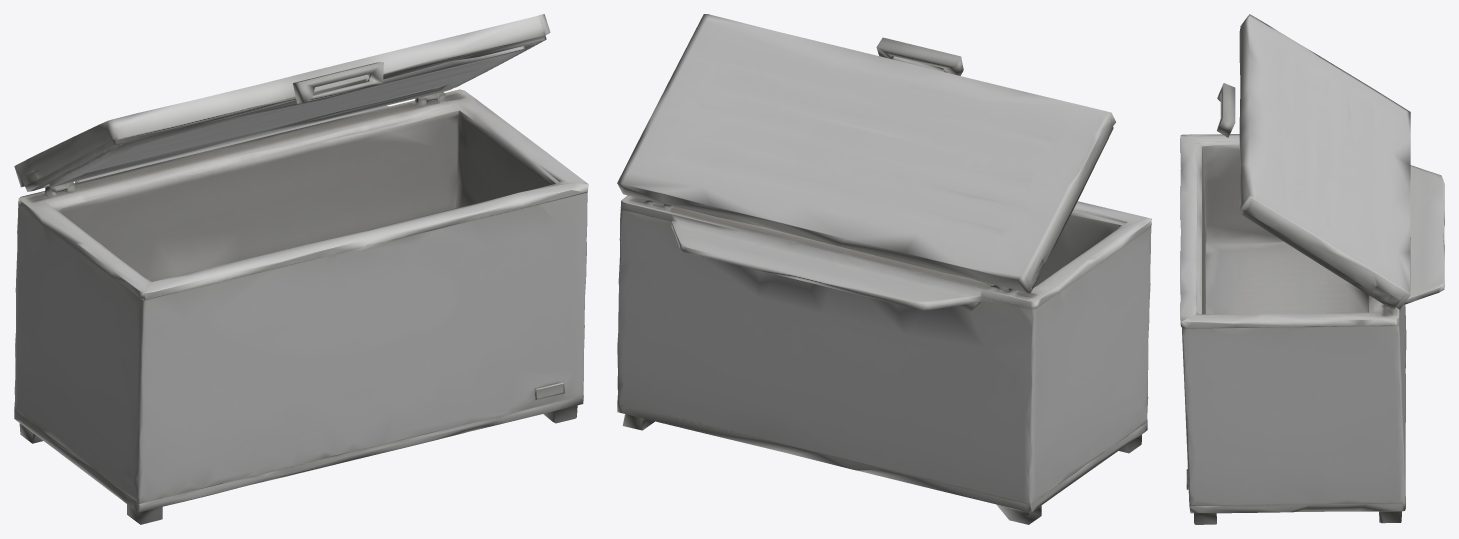
Rendered from SYS_FREEZER_v001_RAW.glb.
The picture shows the model from 3 angles, left to right: view 1: azimuth 30°, elevation 25°; view 2: azimuth 150°, elevation 25°; view 3: azimuth 270°, elevation 25°; orthographic projection. The views are drawn at different scales.
Parts seen in each view (by area): view 1: tripo_node_1f01050c-e645-486b-ae21-7014345bda6a; view 2: tripo_node_1f01050c-e645-486b-ae21-7014345bda6a; view 3: tripo_node_1f01050c-e645-486b-ae21-7014345bda6a.
Boxes of the visible parts, box(x1,y1,x2,y2) form: tripo_node_1f01050c-e645-486b-ae21-7014345bda6a: box(14, 14, 588, 524); tripo_node_1f01050c-e645-486b-ae21-7014345bda6a: box(617, 14, 1151, 524); tripo_node_1f01050c-e645-486b-ae21-7014345bda6a: box(1180, 14, 1444, 524).
Bounding box in the file's own units: 0.9792 × 0.8114 × 0.5836.
1 material, 1 textured.
